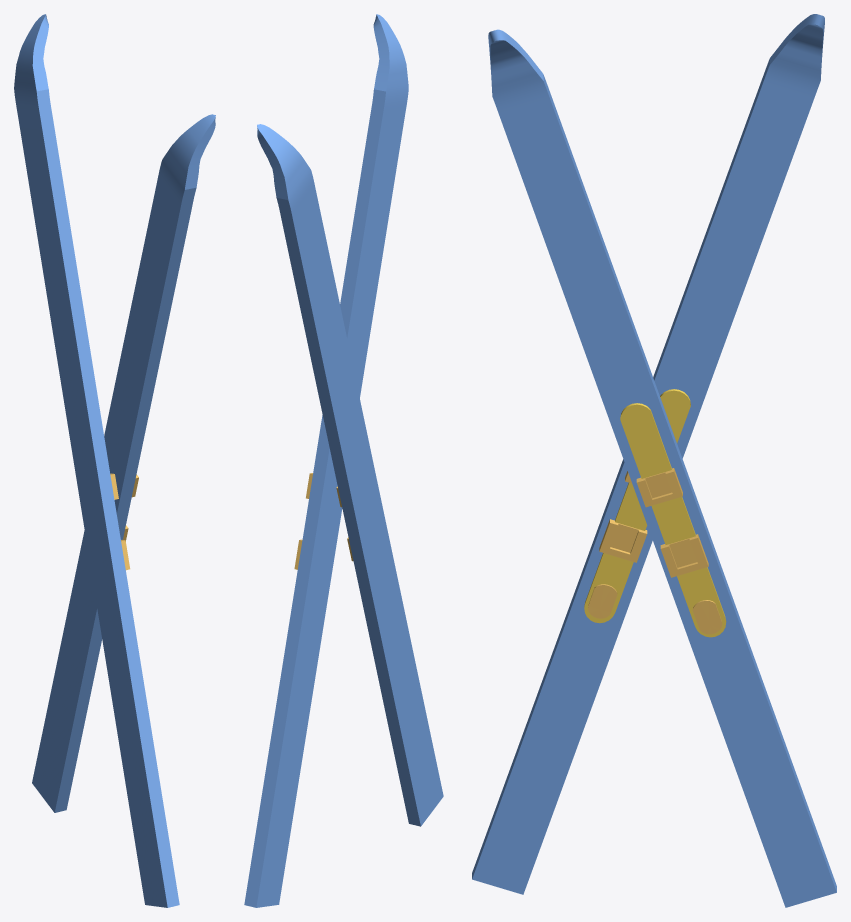
File: woahDesSandNUrDezentGrooessereCombinedSkiHIHI.fbx
The picture shows the model from 3 angles, left to right: view 1: azimuth 30°, elevation 25°; view 2: azimuth 150°, elevation 25°; view 3: azimuth 270°, elevation 25°; orthographic projection. The views are drawn at different scales.
Parts seen in each view (by area): view 1: group5_group6_pCube2; view 2: group5_group6_pCube2; view 3: group5_group6_pCube2.
Boxes of the visible parts, x1,y1,x2,y2 form: group5_group6_pCube2: (14, 14, 215, 907); group5_group6_pCube2: (244, 14, 443, 907); group5_group6_pCube2: (472, 14, 836, 907).
Bounding box in the file's own units: 7.34 × 94.95 × 35.24.
